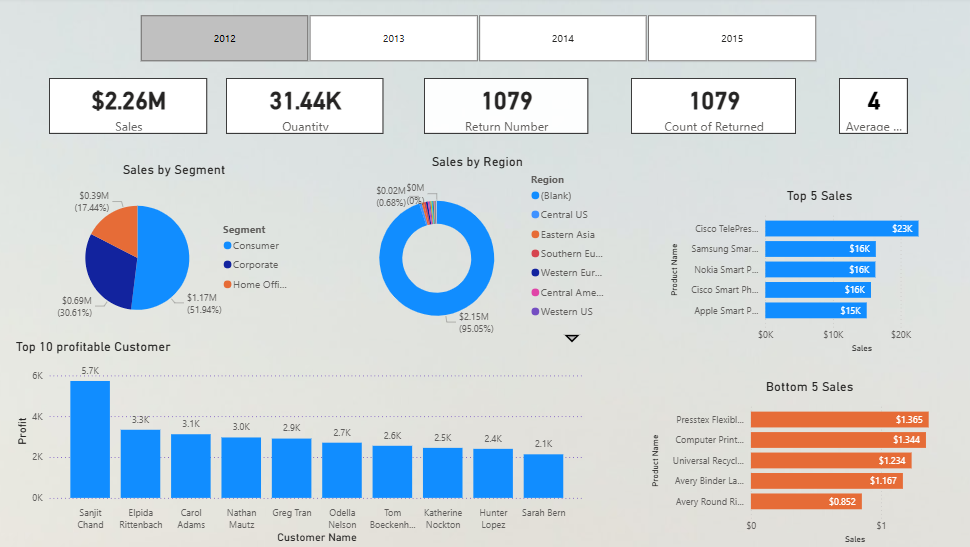

The dashboard page shown, as its layout file describes it:
{"tool":"powerbi","page":{"name":"Page 1","canvas":[1280,720],"ordinal":0},"visuals":[{"type":"card","fields":{"Values":["Sum(Orders.Sales)"]},"box":[70.5,105.8,207.2,73.5],"z":0},{"type":"card","fields":{"Values":["Sum(Orders.Quantity)"]},"box":[302.7,105.8,205.7,73.5],"z":1000},{"type":"card","fields":{"Values":["Avg(Orders.Delivery Day)"]},"box":[1105,105.8,89.6,73.5],"z":2000},{"type":"card","fields":{"Values":["Sum(Returns.Return Number)"]},"box":[561.3,105.8,214.5,73.5],"z":3000},{"type":"card","fields":{"Values":["CountNonNull(Returns.Returned)"]},"box":[833.1,105.8,216,73.5],"z":4000},{"type":"slicer","fields":{"Values":["Orders.Order Date.2"]},"box":[164.6,16.8,934,73.9],"z":5000},{"type":"clusteredBarChart","title":"Top 5 Sales","fields":{"Category":["Orders.Product Name"],"Y":["Sum(Orders.Sales)"]},"box":[878,250,402,220],"z":7000},{"type":"clusteredBarChart","title":"Bottom 5 Sales","fields":{"Y":["Sum(Orders.Sales)"],"Category":["Orders.Product Name"]},"box":[854,500,426,220],"z":8000},{"type":"pieChart","fields":{"Category":["Orders.Segment"],"Y":["Sum(Orders.Sales)"]},"box":[70,216,330,232],"z":9000},{"type":"donutChart","fields":{"Category":["People.Region"],"Y":["Sum(Orders.Sales)"]},"box":[450,206,362,254],"z":10000},{"type":"clusteredColumnChart","title":"Top 10 profitable Customer","fields":{"Category":["Orders.Customer Name"],"Y":["Sum(Orders.Profit)"]},"box":[22,448,754,272],"z":11000}]}

Visuals, with their boxes in screenshot pixels (x1, y1, x2, y2), scaled from the page's 1280x720 canvas onto the 970x547 screenshot:
card - Sum(Orders.Sales): [x1=53, y1=80, x2=210, y2=136]
card - Sum(Orders.Quantity): [x1=229, y1=80, x2=385, y2=136]
card - Avg(Orders.Delivery Day): [x1=837, y1=80, x2=905, y2=136]
card - Sum(Returns.Return Number): [x1=425, y1=80, x2=588, y2=136]
card - CountNonNull(Returns.Returned): [x1=631, y1=80, x2=795, y2=136]
slicer - Orders.Order Date.2: [x1=125, y1=13, x2=833, y2=69]
"Top 5 Sales" clusteredBarChart: [x1=665, y1=190, x2=969, y2=357]
"Bottom 5 Sales" clusteredBarChart: [x1=647, y1=380, x2=969, y2=546]
pieChart - Orders.Segment x Sum(Orders.Sales): [x1=53, y1=164, x2=303, y2=340]
donutChart - People.Region x Sum(Orders.Sales): [x1=341, y1=157, x2=615, y2=349]
"Top 10 profitable Customer" clusteredColumnChart: [x1=17, y1=340, x2=588, y2=546]
